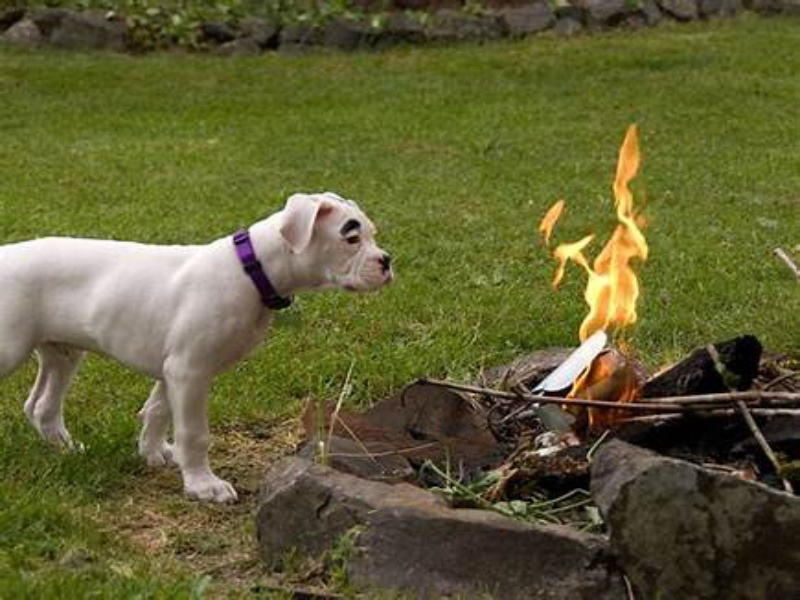fire: (587, 116, 652, 342), (554, 236, 590, 278), (543, 193, 561, 248)
